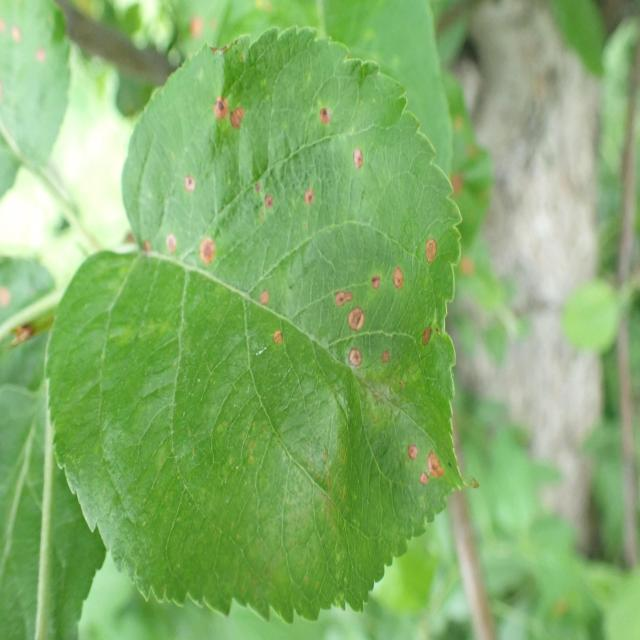frog-eye-leaf-spot: (43, 25, 480, 628)
